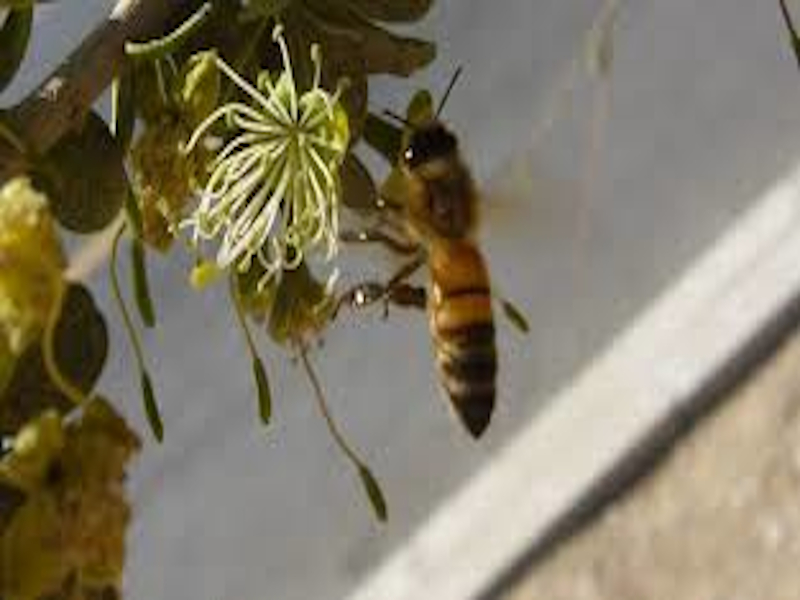abeja: (308, 42, 548, 452)
